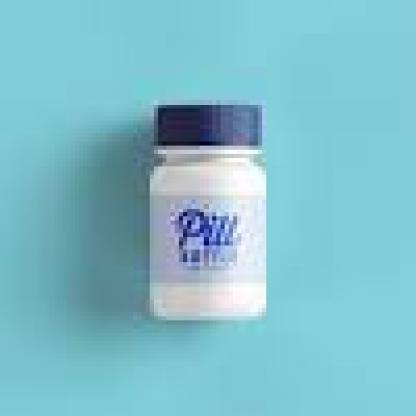jar: (150, 105, 266, 319)
